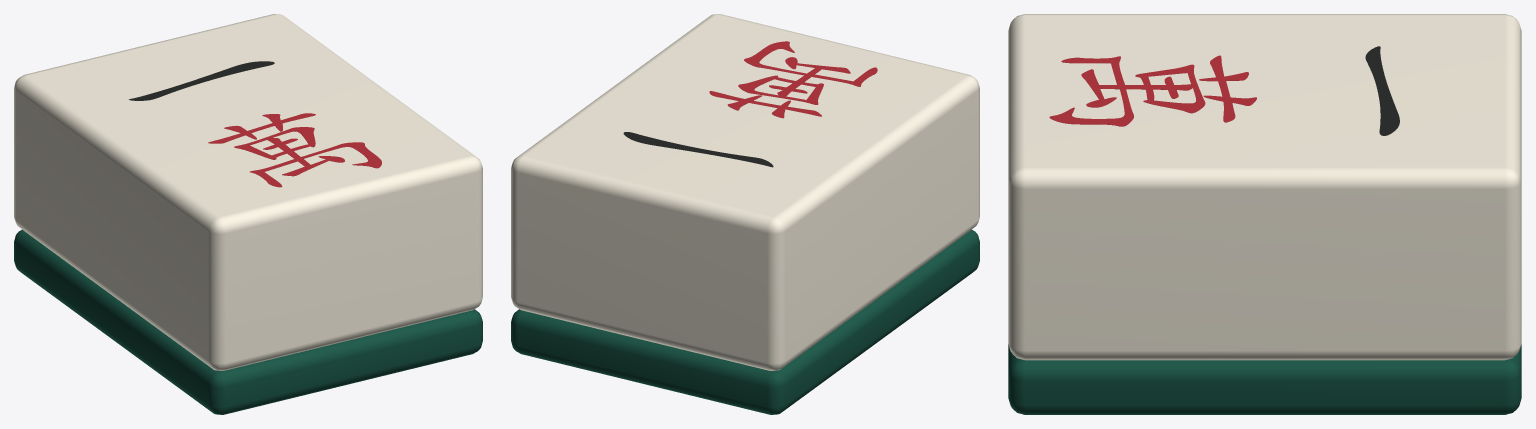
The model's file is wan-01.glb.
3 views of the same model, side by side, from view 1: azimuth 30°, elevation 25°; view 2: azimuth 150°, elevation 25°; view 3: azimuth 270°, elevation 25° (orthographic). The views are drawn at different scales.
Parts seen in each view (by area): view 1: wan-01_ivory, wan-01_back, wan-01_face_inlays; view 2: wan-01_ivory, wan-01_back, wan-01_face_inlays; view 3: wan-01_ivory, wan-01_back, wan-01_face_inlays.
Part boxes in pixels (left/top/right/bottom): wan-01_ivory: left=14, top=14, right=482, bottom=370; wan-01_back: left=14, top=229, right=482, bottom=414; wan-01_face_inlays: left=129, top=61, right=381, bottom=187; wan-01_ivory: left=511, top=14, right=979, bottom=370; wan-01_back: left=511, top=229, right=979, bottom=414; wan-01_face_inlays: left=623, top=41, right=877, bottom=167; wan-01_ivory: left=1008, top=14, right=1521, bottom=360; wan-01_back: left=1008, top=344, right=1521, bottom=414; wan-01_face_inlays: left=1049, top=46, right=1399, bottom=135.
Bounding box in the file's own units: 0.026 × 0.018 × 0.034.
